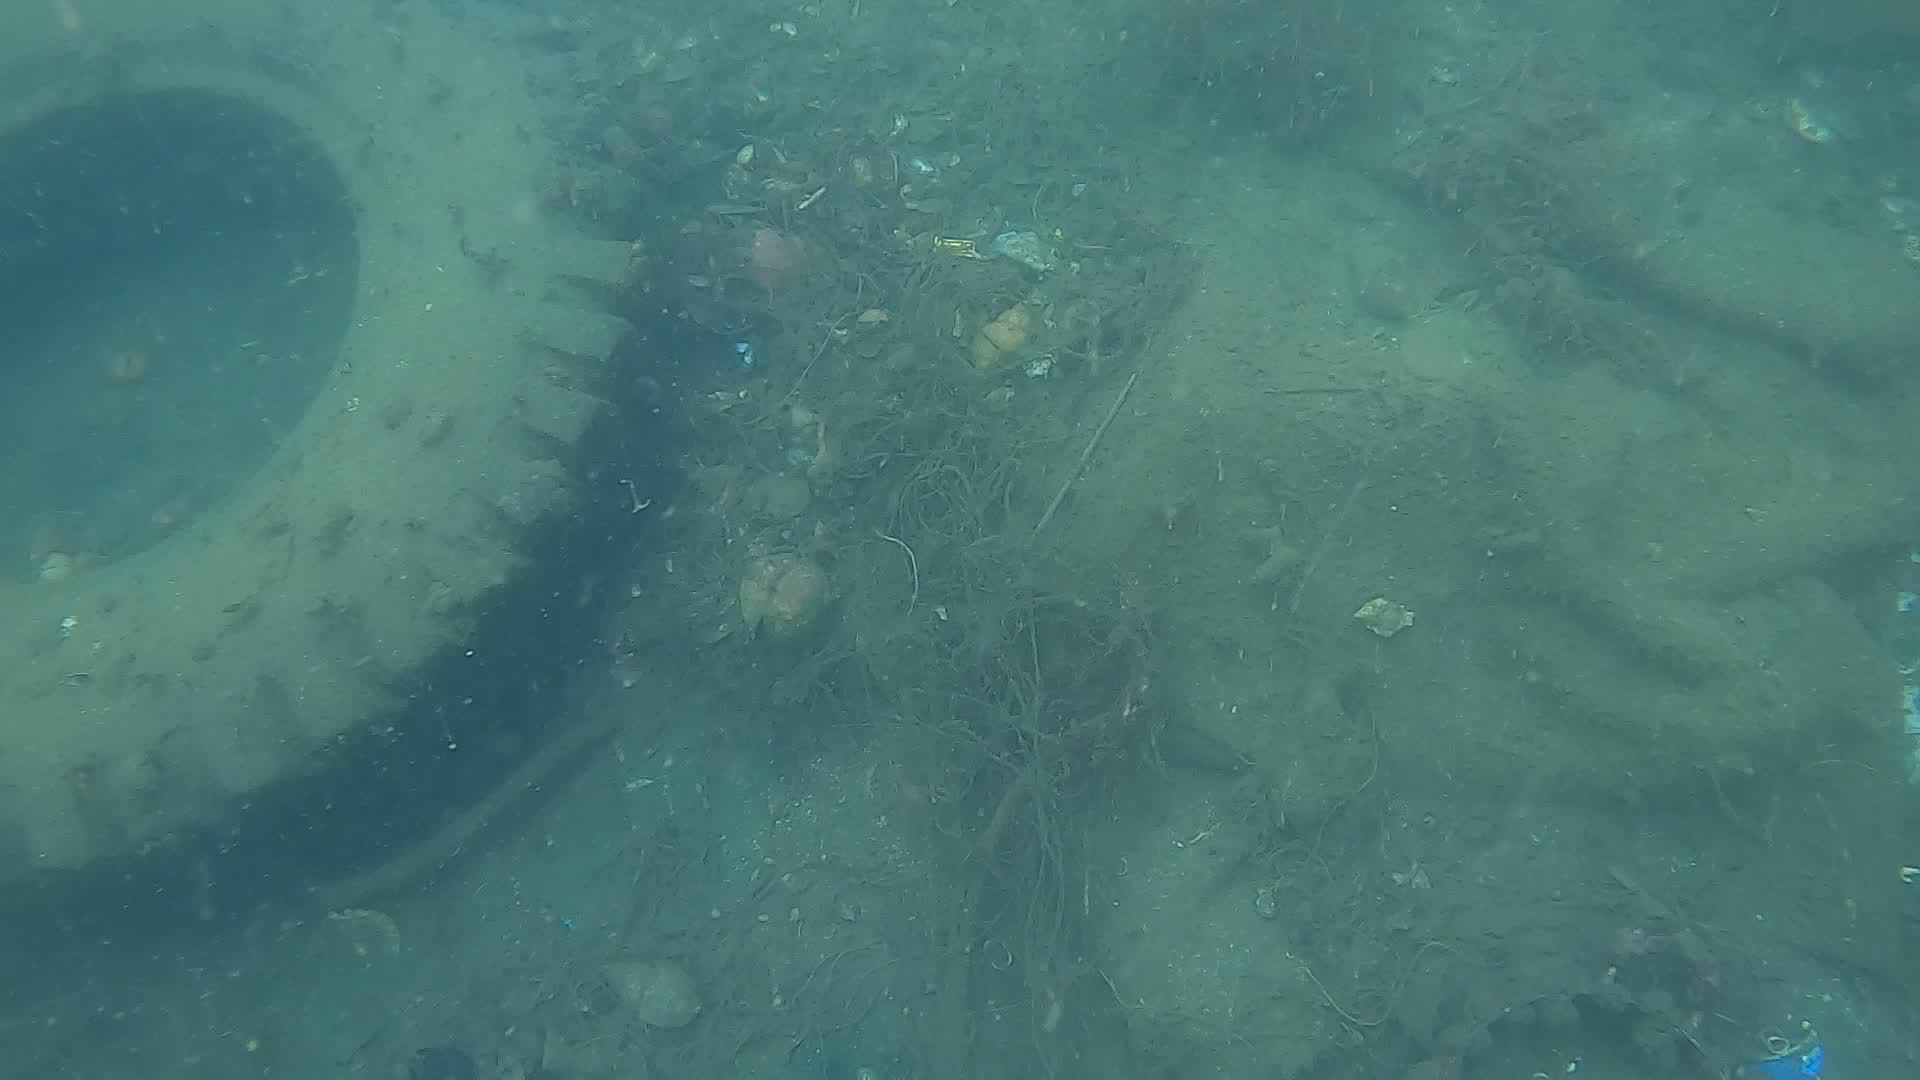tire: (0, 0, 654, 926)
